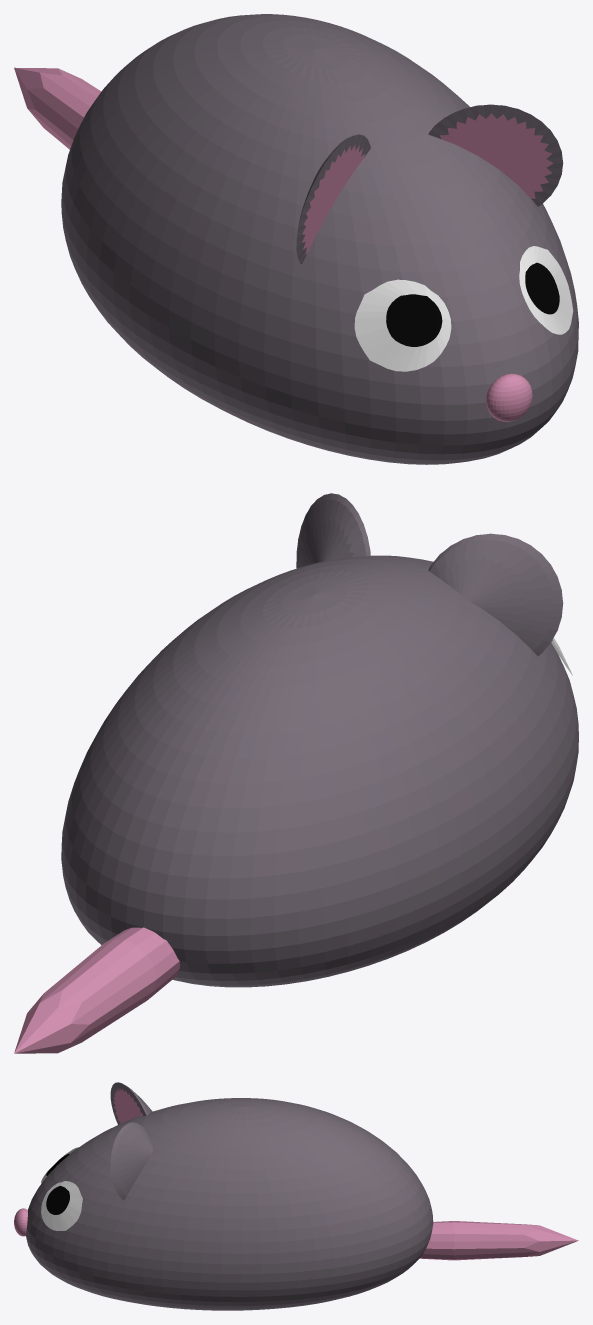
Rendered from mouse.fbx.
3 renders of one model, top to bottom at view 1: azimuth 30°, elevation 25°; view 2: azimuth 150°, elevation 25°; view 3: azimuth 270°, elevation 25°, orthographic. The views are drawn at different scales.
Parts seen in each view (by area): view 1: Sphere, Cone, Circle, Cylinder, Sphere.001; view 2: Sphere, Cone, Cylinder; view 3: Sphere, Cylinder, Cone, Circle, Sphere.001.
Boxes of the visible parts, x1=… form: Sphere: x1=61, y1=14, x2=578, y2=464; Cone: x1=296, y1=104, x2=563, y2=264; Circle: x1=354, y1=246, x2=573, y2=371; Cylinder: x1=14, y1=67, x2=101, y2=149; Sphere.001: x1=486, y1=373, x2=532, y2=421; Sphere: x1=61, y1=555, x2=578, y2=987; Cone: x1=296, y1=493, x2=563, y2=655; Cylinder: x1=14, y1=927, x2=179, y2=1053; Sphere: x1=26, y1=1098, x2=433, y2=1310; Cylinder: x1=419, y1=1221, x2=578, y2=1260; Cone: x1=110, y1=1082, x2=152, y2=1200; Circle: x1=41, y1=1147, x2=82, y2=1230; Sphere.001: x1=14, y1=1208, x2=27, y2=1236.
Size of the model in its own units: 162 by 133 by 381.
